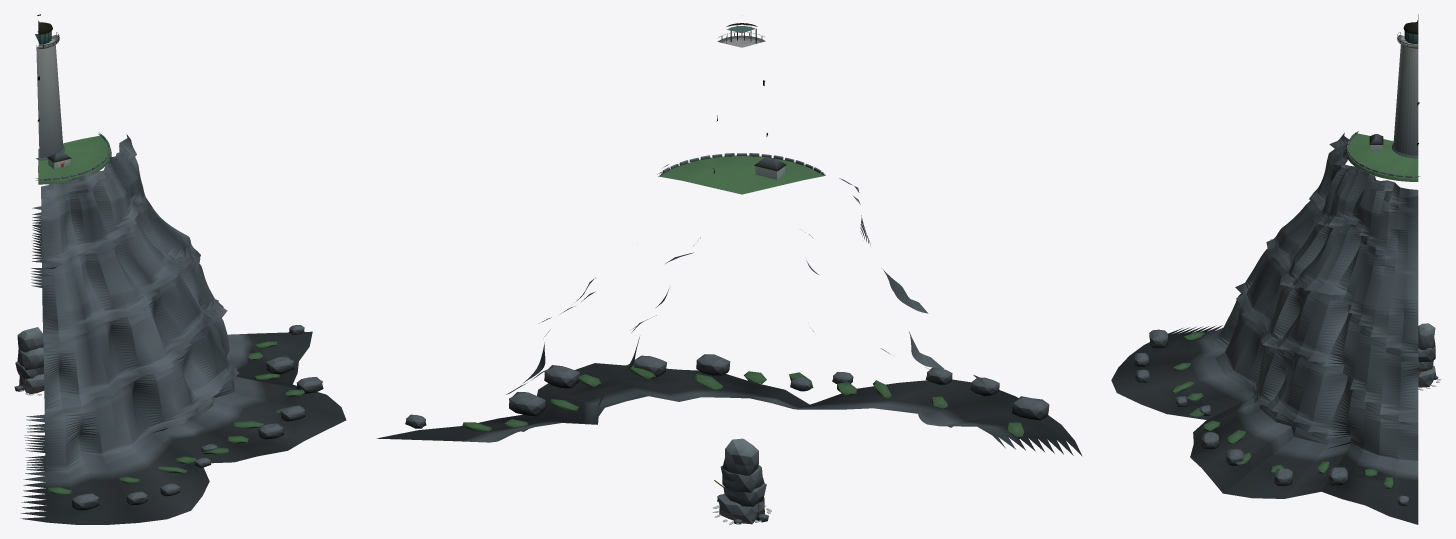
File: coast-s1--9iY4hYd.glb
3 renders of one model, left to right at view 1: azimuth 30°, elevation 25°; view 2: azimuth 150°, elevation 25°; view 3: azimuth 270°, elevation 25°, orthographic. The views are drawn at different scales.
Visible parts, largest first — view 1: sc_landmark_2, sc_stack_1; view 2: sc_landmark_2, sc_stack_1; view 3: sc_landmark_2, sc_stack_1.
Part boxes in pixels (x1,y1,x2,y2): sc_landmark_2: (20,14,346,524); sc_stack_1: (14,327,44,395); sc_landmark_2: (376,23,1082,456); sc_stack_1: (712,438,771,524); sc_landmark_2: (1111,14,1420,524); sc_stack_1: (1418,323,1441,390).
Bounding box in the file's own units: 359 × 320 × 253.
